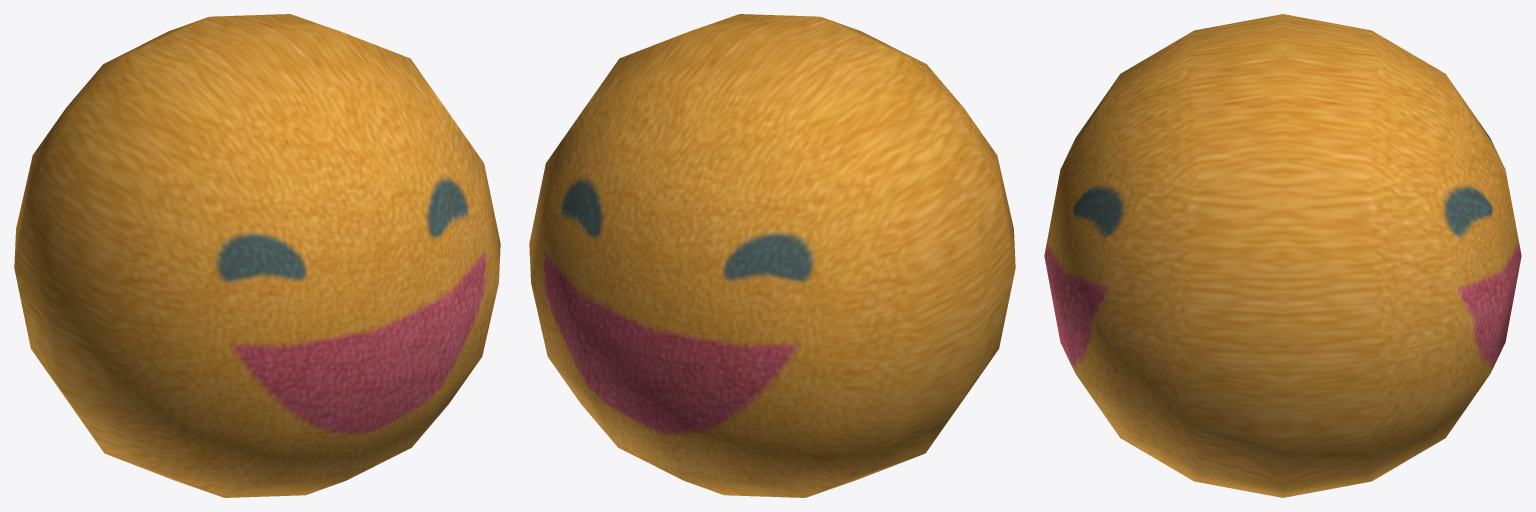
File: insectCute_export.fbx
3 views of the same model, side by side, from view 1: azimuth 30°, elevation 25°; view 2: azimuth 150°, elevation 25°; view 3: azimuth 270°, elevation 25° (orthographic).
Parts seen in each view (by area): view 1: c_ballA; view 2: c_ballA; view 3: c_ballA.
Boxes of the visible parts, <box> form: c_ballA: <box>14,14,500,497</box>; c_ballA: <box>529,14,1015,497</box>; c_ballA: <box>1044,14,1521,497</box>.
Size of the model in its own units: 0.9949 by 0.9949 by 0.9949.
